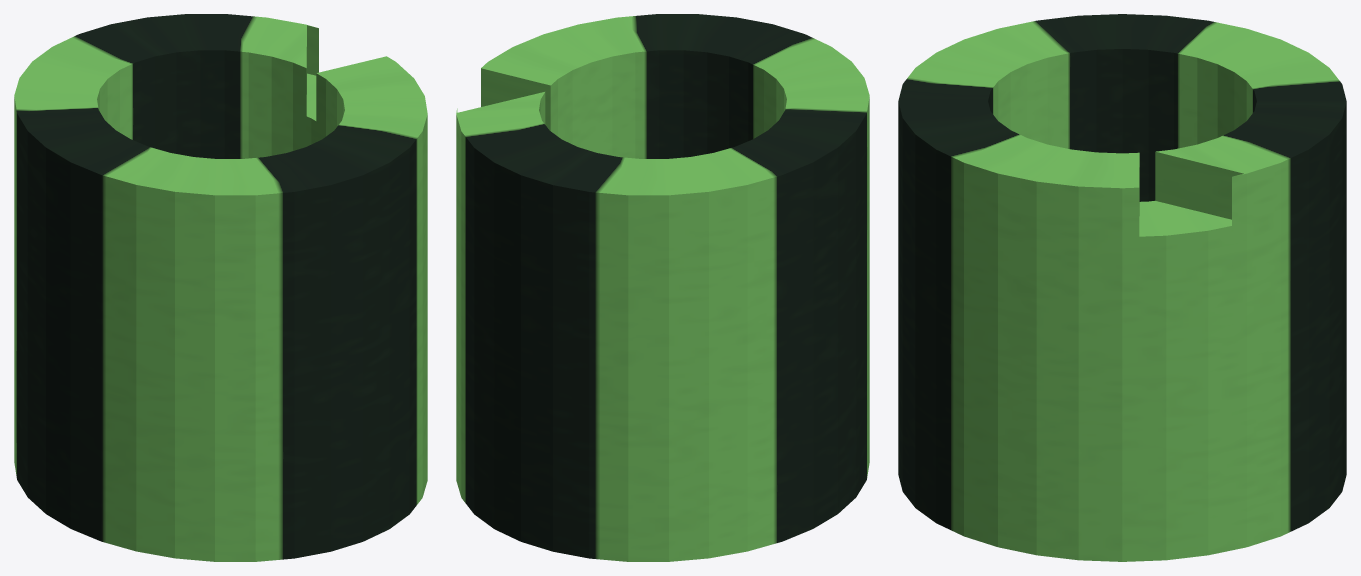
3 renders of one model, left to right at view 1: azimuth 30°, elevation 25°; view 2: azimuth 150°, elevation 25°; view 3: azimuth 270°, elevation 25°, orthographic.
Visible parts, largest first — view 1: geometry_0; view 2: geometry_0; view 3: geometry_0.
Boxes of the visible parts, left/top/right/bottom form: geometry_0: left=14, top=14, right=427, bottom=561; geometry_0: left=456, top=14, right=869, bottom=561; geometry_0: left=898, top=14, right=1346, bottom=561.
Bounding box in the file's own units: 0.7898 × 0.7898 × 0.8585.
Materials: 1 (1 with a texture image).
